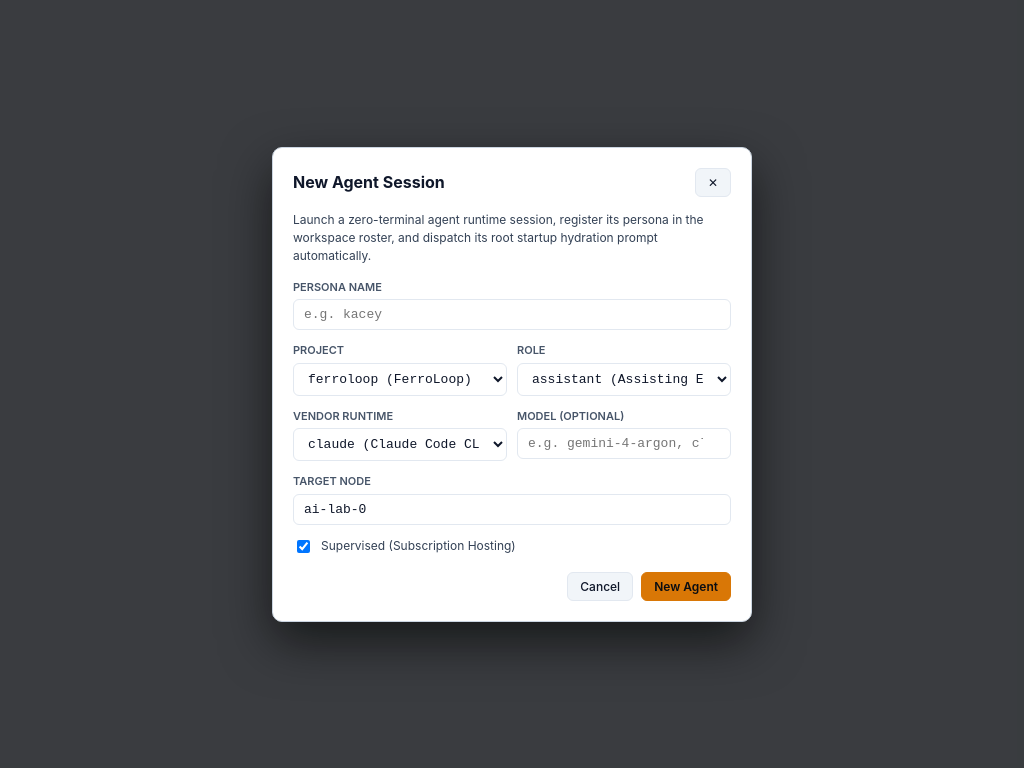
SpinUpAgentModal › clears validation/API errors when closed and reopened
Click the button with test id "spin-up-submit-btn": (686, 586) [641, 572, 731, 600]
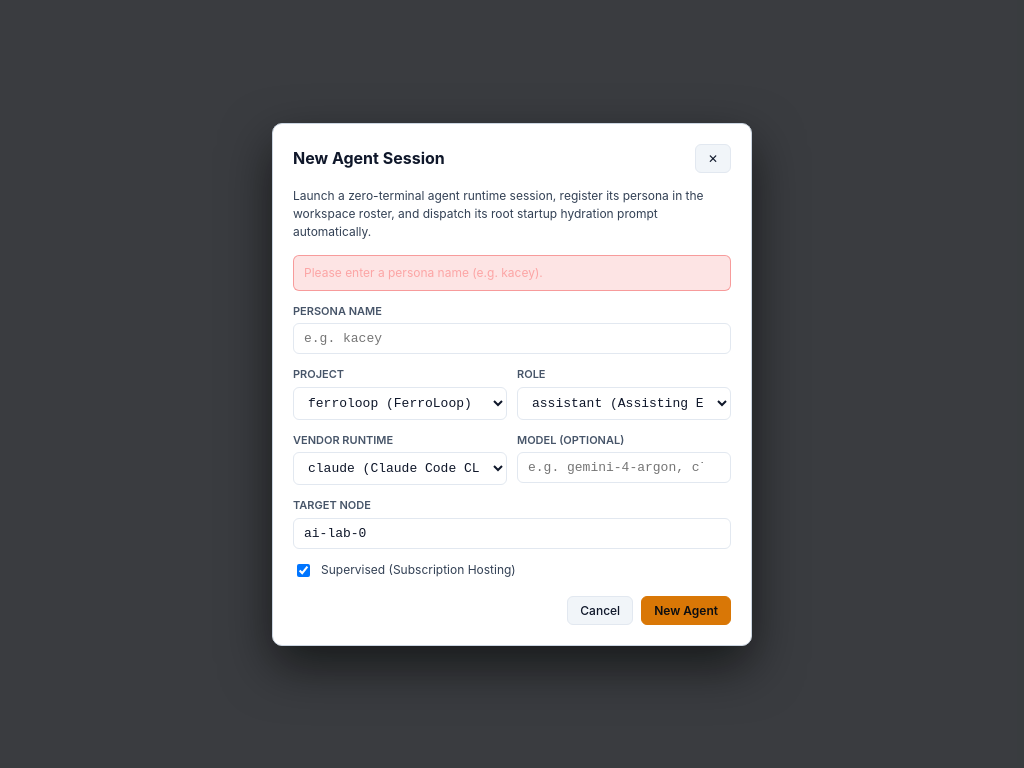
Now the message shows "persona name", box [304, 264, 543, 280]
